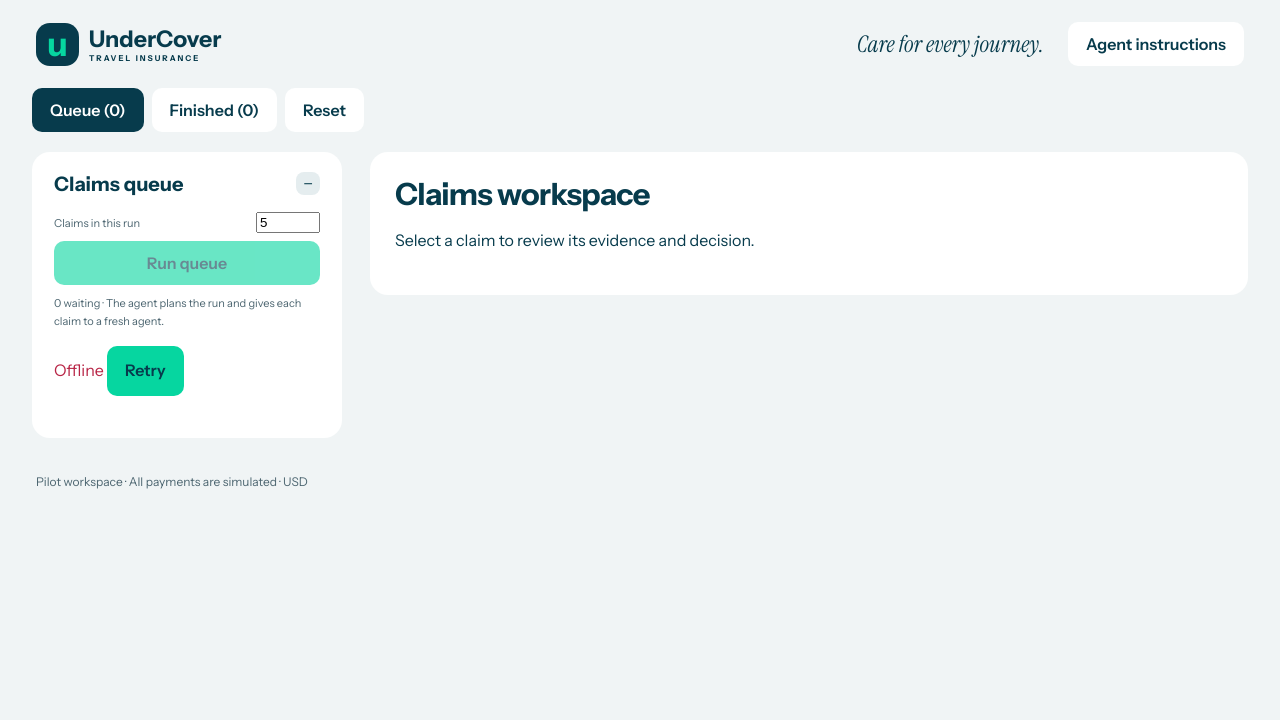
Test case: reports queue failures and retries
Check: the message reads "Offline Retry", box x1=54 y1=346 x2=184 y2=396
Click the button "Retry" at [145, 371], box x1=107 y1=346 x2=184 y2=396
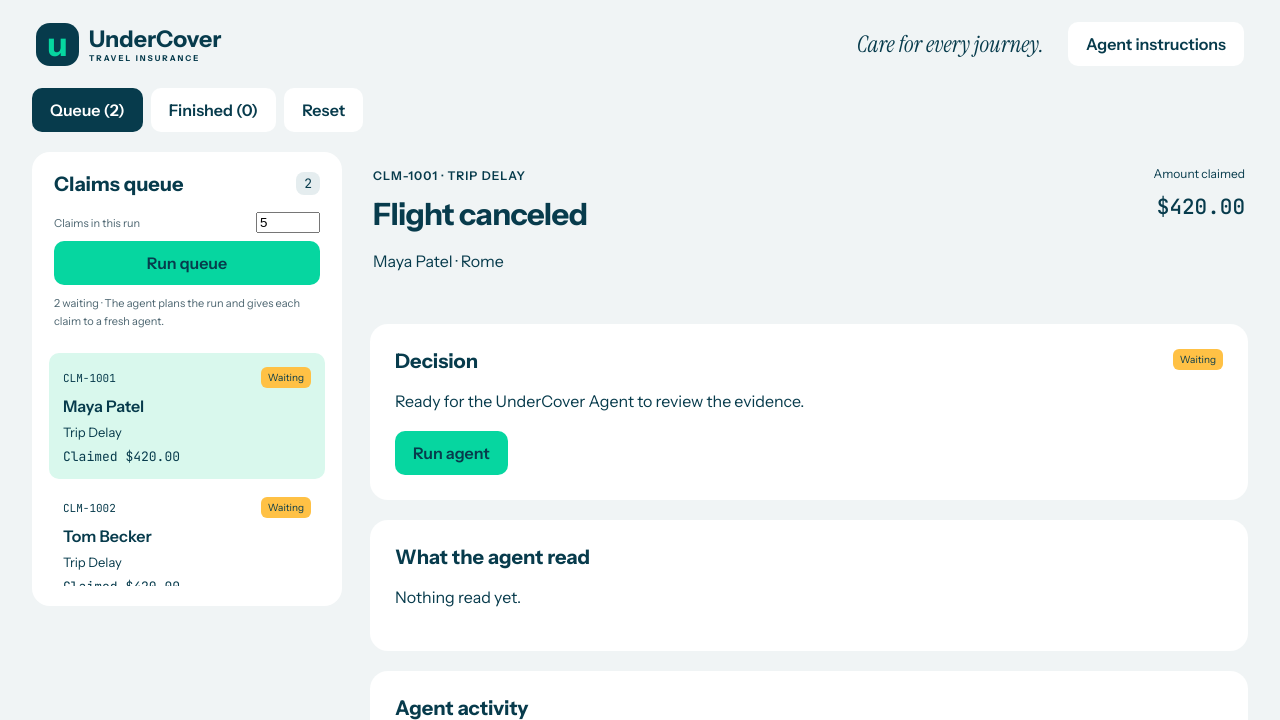
Check: the heading "Flight canceled" is shown, box x1=373 y1=197 x2=587 y2=232
